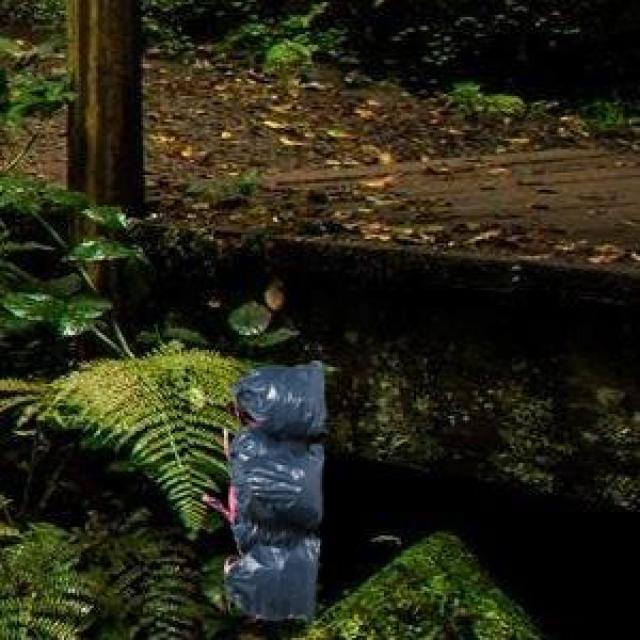Trashbag: (228, 440, 326, 540), (222, 533, 324, 627), (230, 359, 331, 444)
